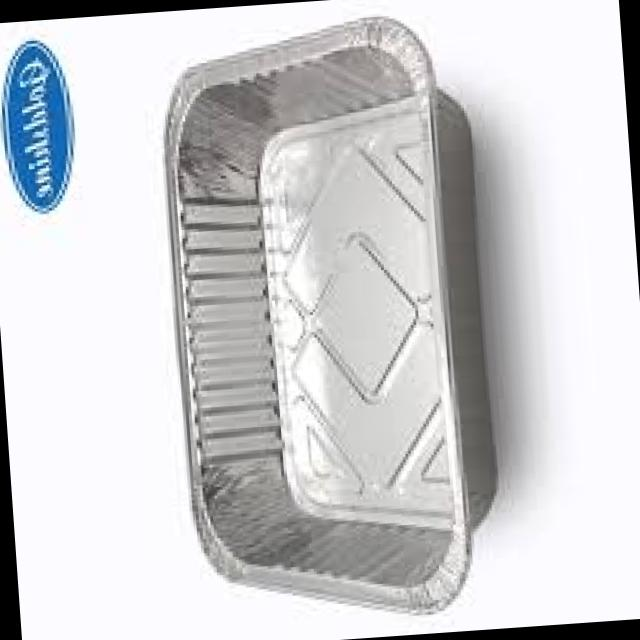metal: (167, 19, 495, 613)
